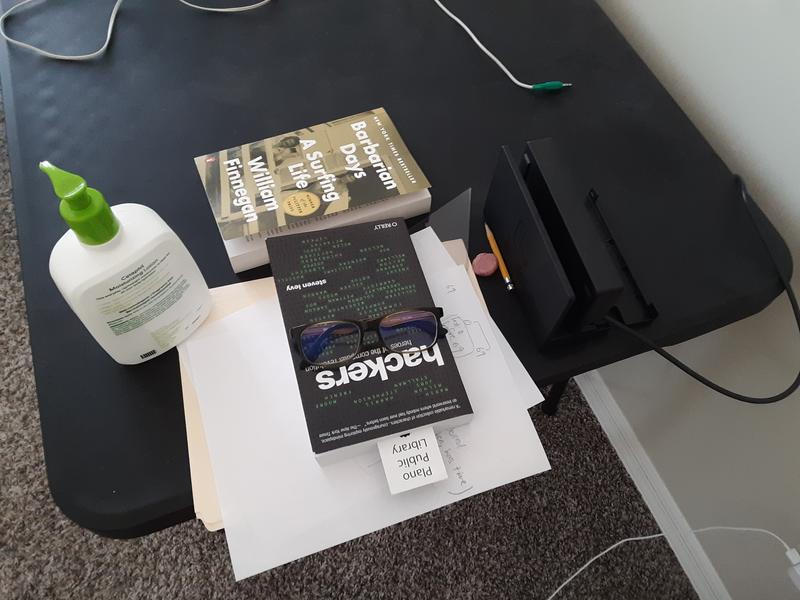glasses: (286, 306, 450, 369)
